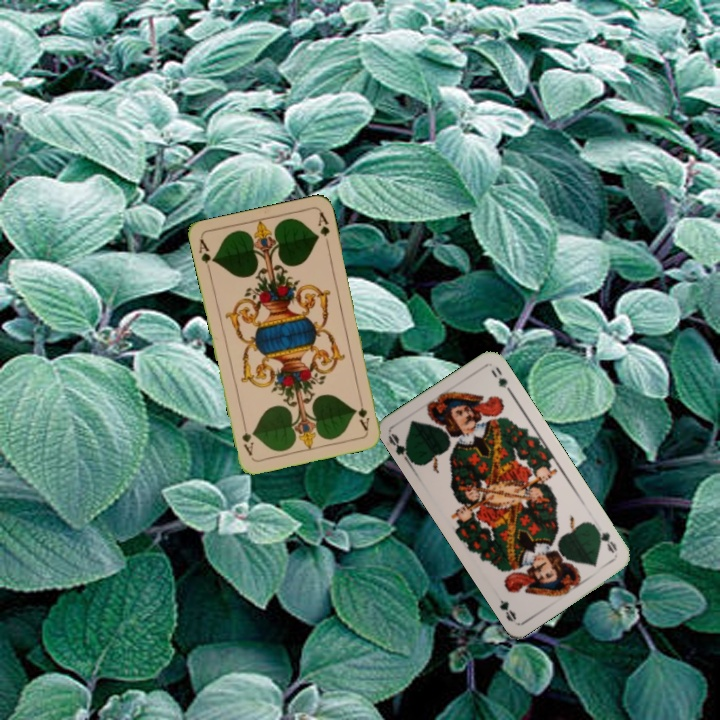GA: (194, 235, 217, 275), (354, 393, 372, 433)
GO: (384, 430, 417, 467), (591, 523, 620, 556)
